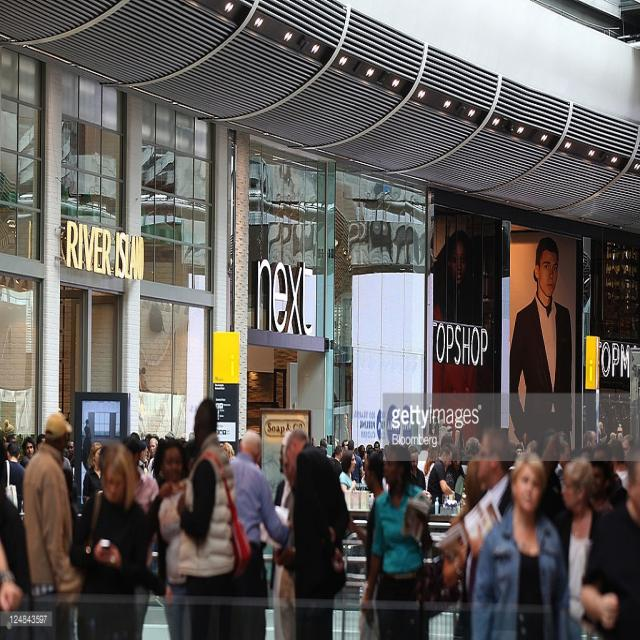body: (466, 446, 576, 639), (174, 395, 252, 639), (68, 441, 148, 639), (282, 427, 352, 639), (360, 444, 432, 639), (228, 427, 293, 640), (513, 234, 573, 450), (21, 411, 84, 600), (137, 437, 193, 640), (554, 454, 602, 639), (348, 451, 388, 639), (582, 402, 636, 510), (270, 432, 298, 640), (439, 228, 480, 324), (474, 427, 516, 518), (310, 429, 422, 460), (127, 426, 201, 472), (0, 499, 22, 618), (511, 434, 579, 470), (1, 417, 46, 458), (426, 445, 456, 505), (592, 442, 622, 498), (4, 442, 26, 514), (82, 441, 103, 505), (444, 445, 466, 504), (462, 435, 480, 506), (406, 444, 426, 489), (338, 448, 358, 492), (62, 434, 74, 501), (219, 432, 241, 468), (82, 417, 91, 451)
